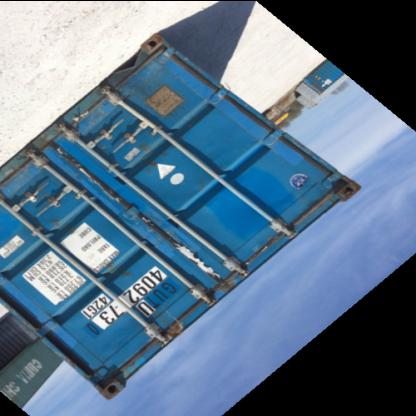Damage: (168, 240, 238, 280), (70, 160, 128, 206), (66, 95, 94, 134), (150, 318, 190, 344), (131, 207, 168, 228)
